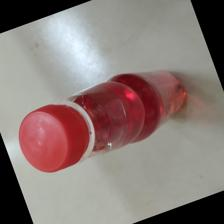Sting: (20, 69, 192, 173)
